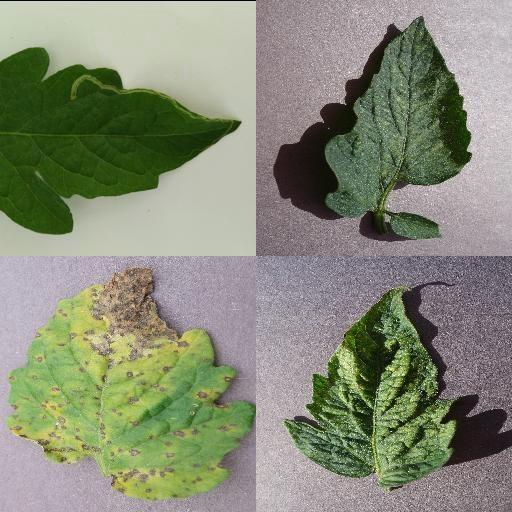Leaf Miner: (1, 47, 245, 235)
Septoria: (8, 267, 256, 503)
Spider Mites: (285, 286, 459, 488), (325, 16, 473, 218)
